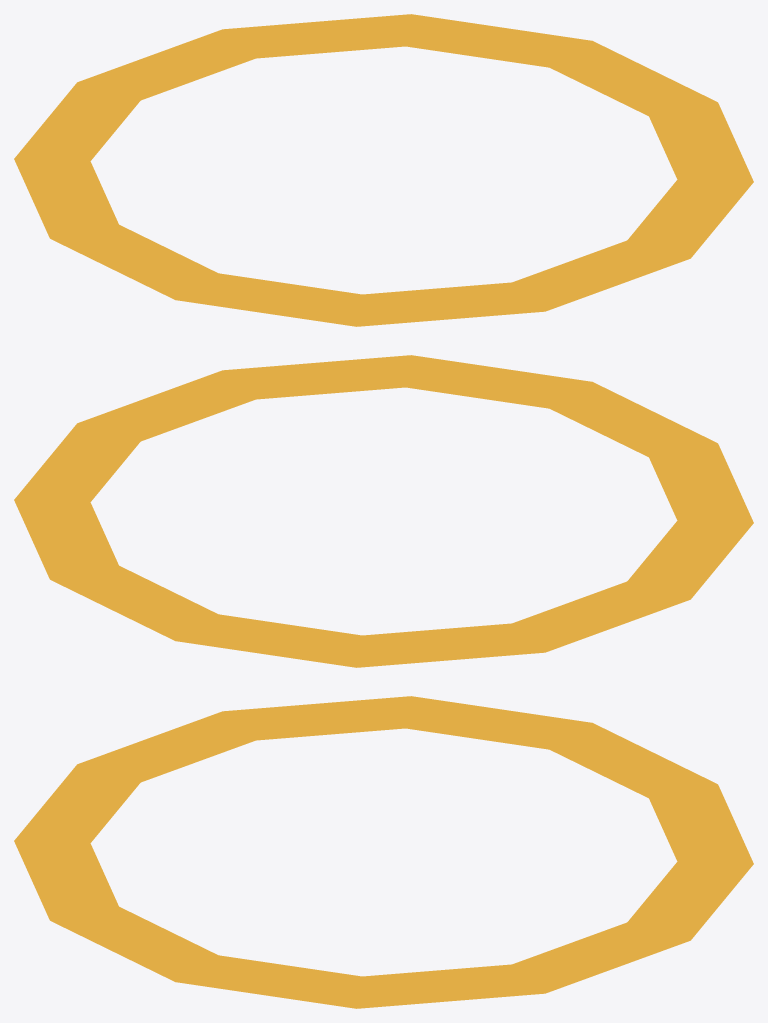
File: indicator-round-b.fbx
3 views of the same model, one above another, from view 1: azimuth 30°, elevation 25°; view 2: azimuth 150°, elevation 25°; view 3: azimuth 270°, elevation 25° (orthographic).
Parts seen in each view (by area): view 1: rotate-y; view 2: rotate-y; view 3: rotate-y.
Boxes of the visible parts, x1,y1,x2,y2 form: rotate-y: [14, 14, 753, 326]; rotate-y: [14, 355, 753, 667]; rotate-y: [14, 696, 753, 1008].
Bounding box in the file's own units: 99.73 × 7.53e-06 × 99.73.
